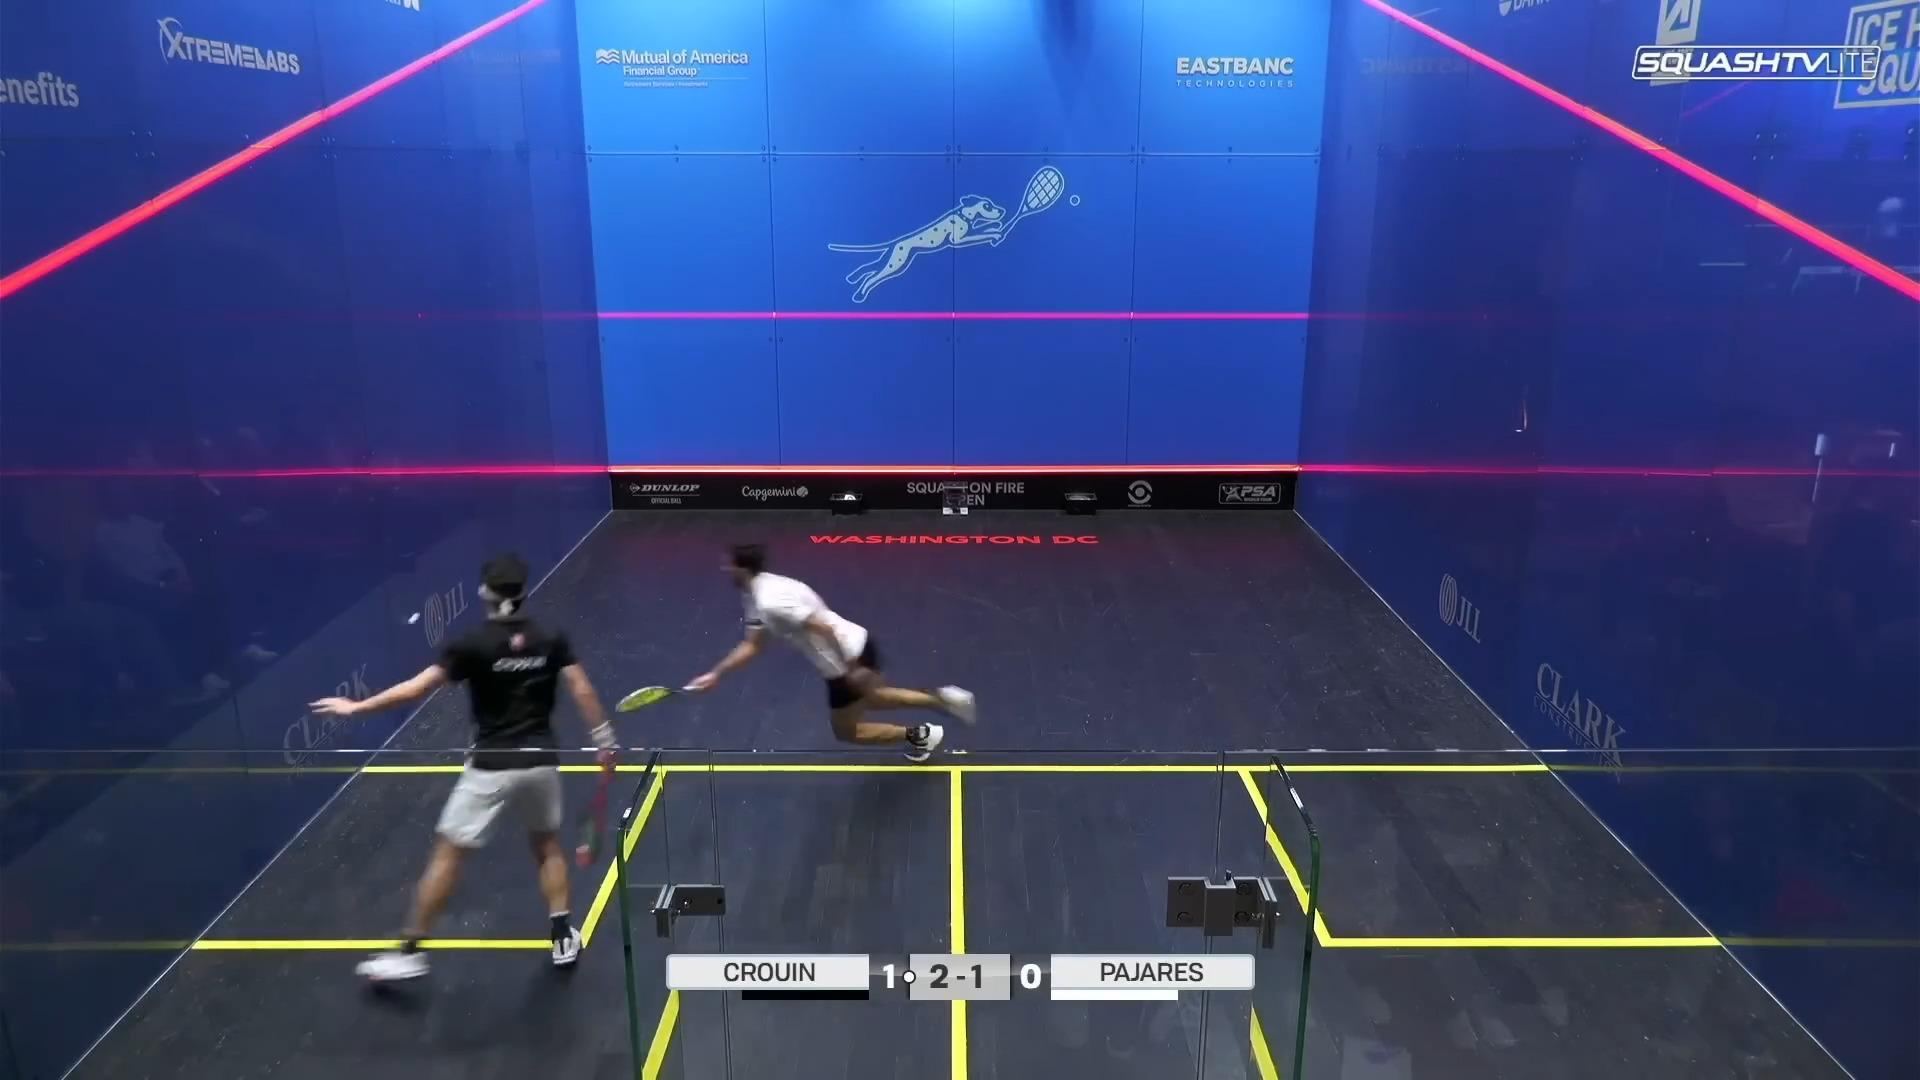Squash-Ball: (397, 604, 431, 636)
